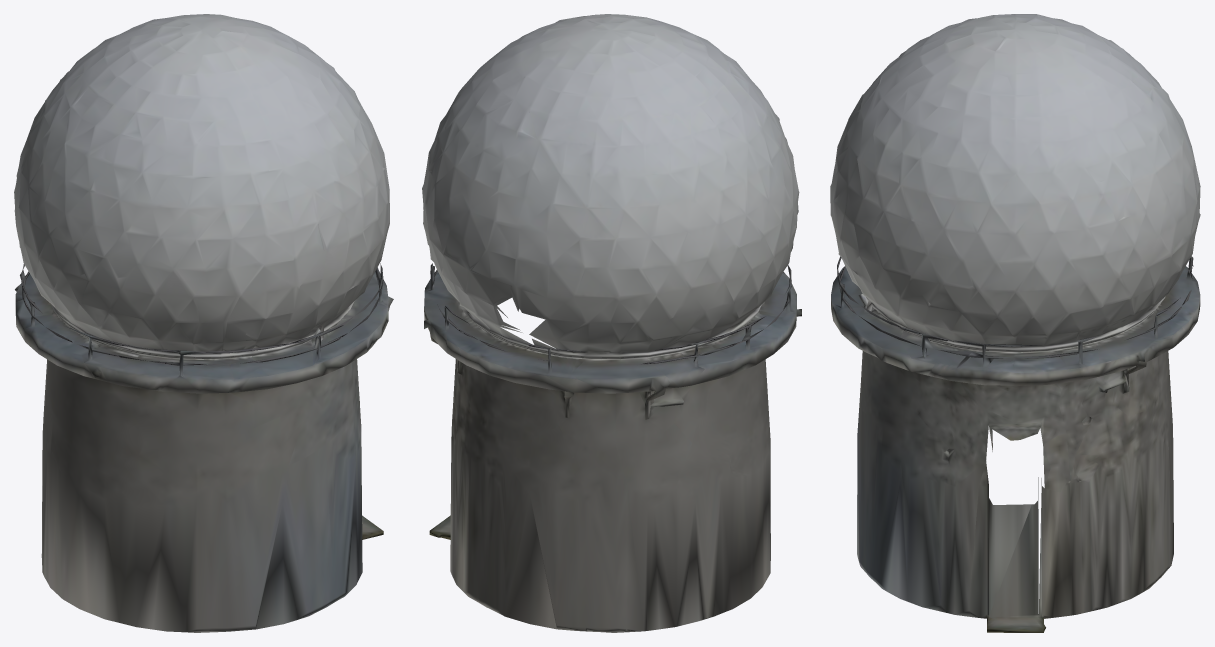
The model's file is radar_dome.3298302f90.glb.
3 renders of one model, left to right at view 1: azimuth 30°, elevation 25°; view 2: azimuth 150°, elevation 25°; view 3: azimuth 270°, elevation 25°, orthographic. The views are drawn at different scales.
Visible parts, largest first — view 1: radar_dome; view 2: radar_dome; view 3: radar_dome.
Boxes of the visible parts, x1=… form: radar_dome: x1=14, y1=14, x2=393, y2=632; radar_dome: x1=422, y1=14, x2=801, y2=632; radar_dome: x1=830, y1=14, x2=1200, y2=632.
Bounding box in the file's own units: 14.67 × 22.7 × 14.55.
Materials: 1 (1 with a texture image).
